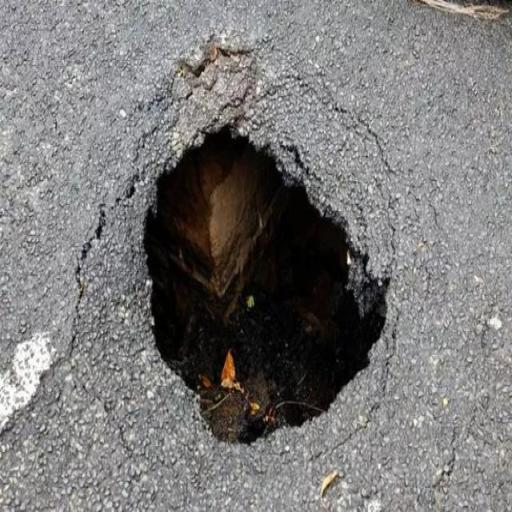Concentric_Crack: (144, 130, 387, 442)
